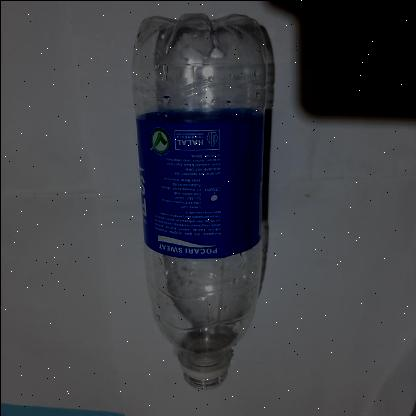Plastic Bottle: (133, 11, 269, 387)
